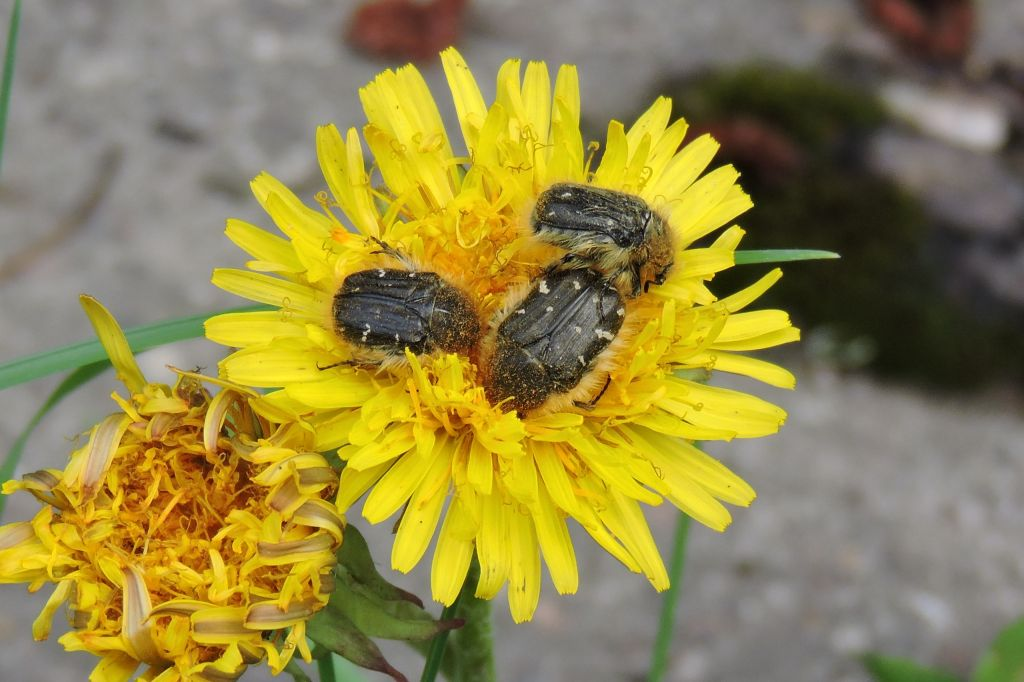Tropinota_hirta: (306, 232, 499, 387), (481, 255, 638, 431), (519, 168, 685, 272)
